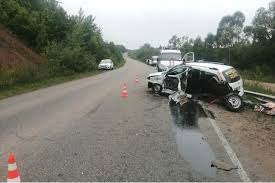car: (141, 57, 247, 120)
